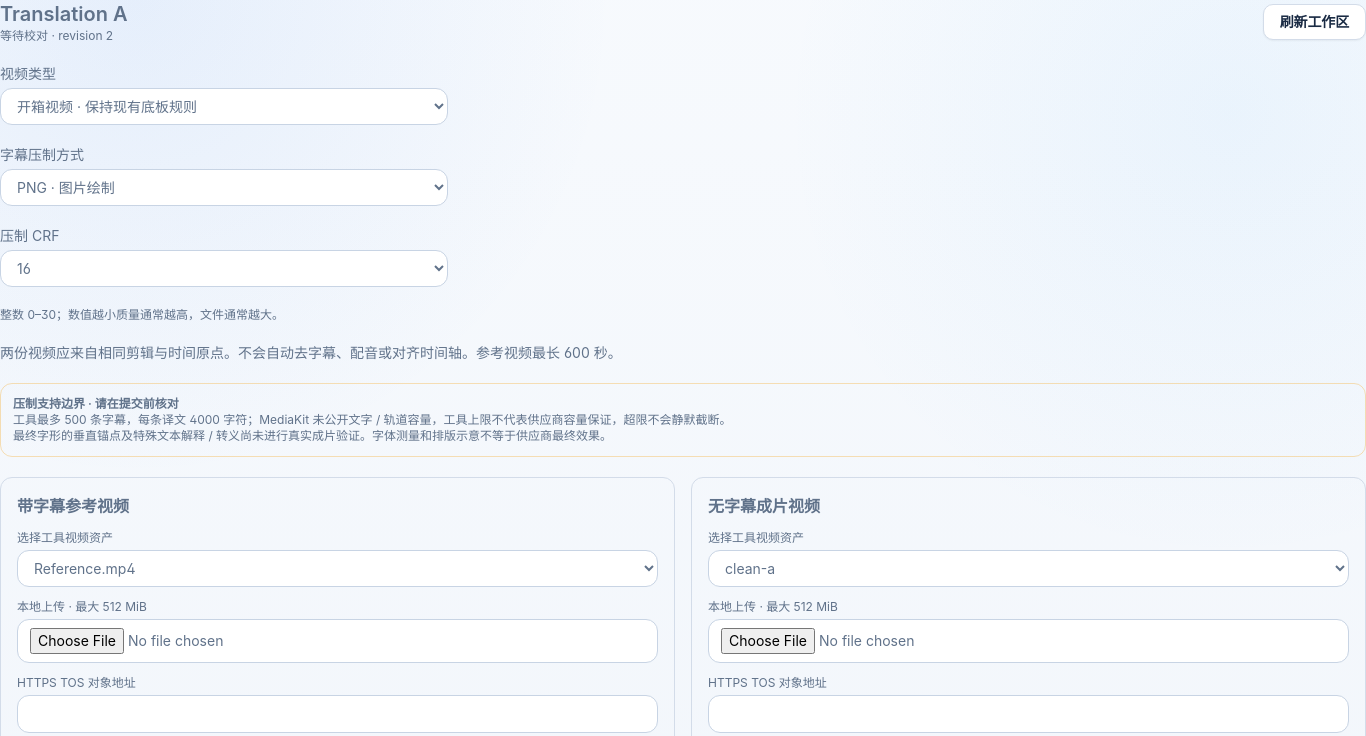
Test: subtitle render mode selection › serializes in-flight updates and keeps the saved selection until PATCH succeeds
Select "Text · 原生文字" in the dropdown labelled "字幕压制方式" at (224, 188), box [0,169,448,206]
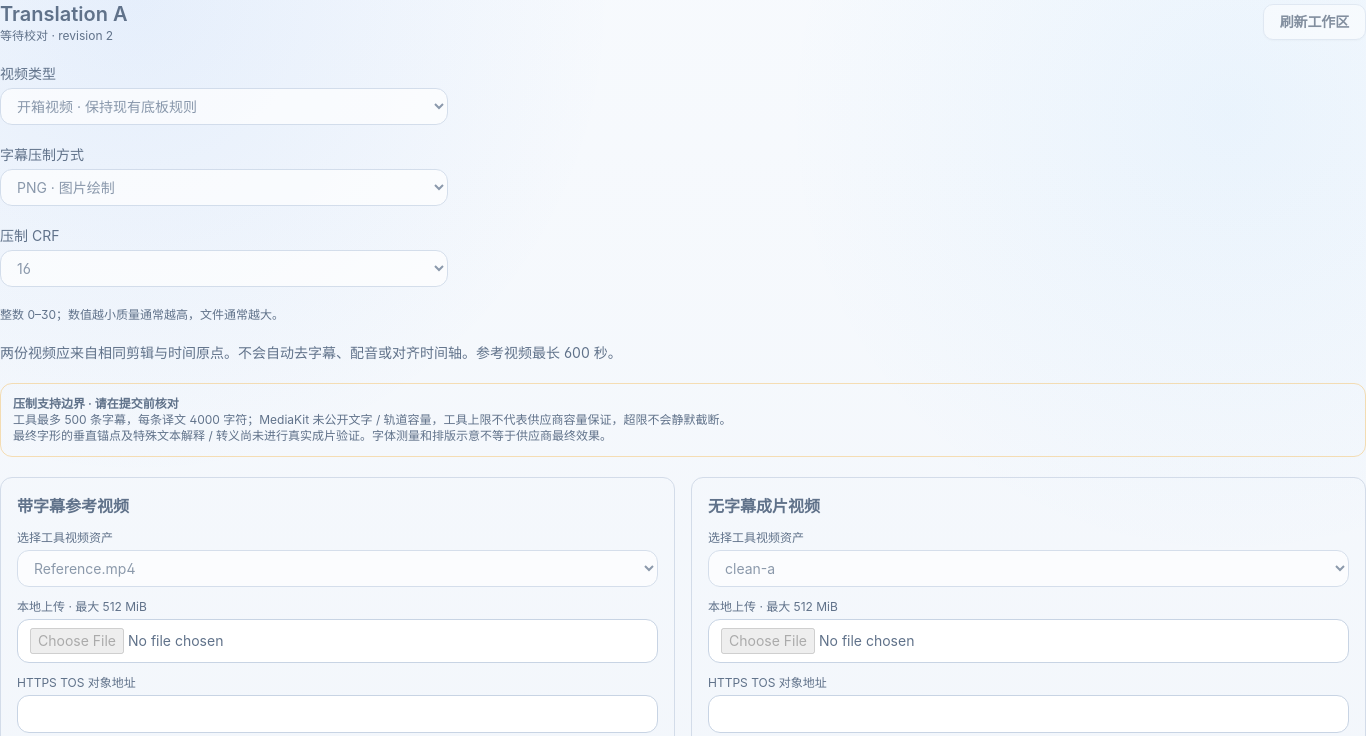
Expected: the dropdown labelled "字幕压制方式" is disabled
Select "Text · 原生文字" in the dropdown labelled "字幕压制方式" at (224, 188), box [0,169,448,206]
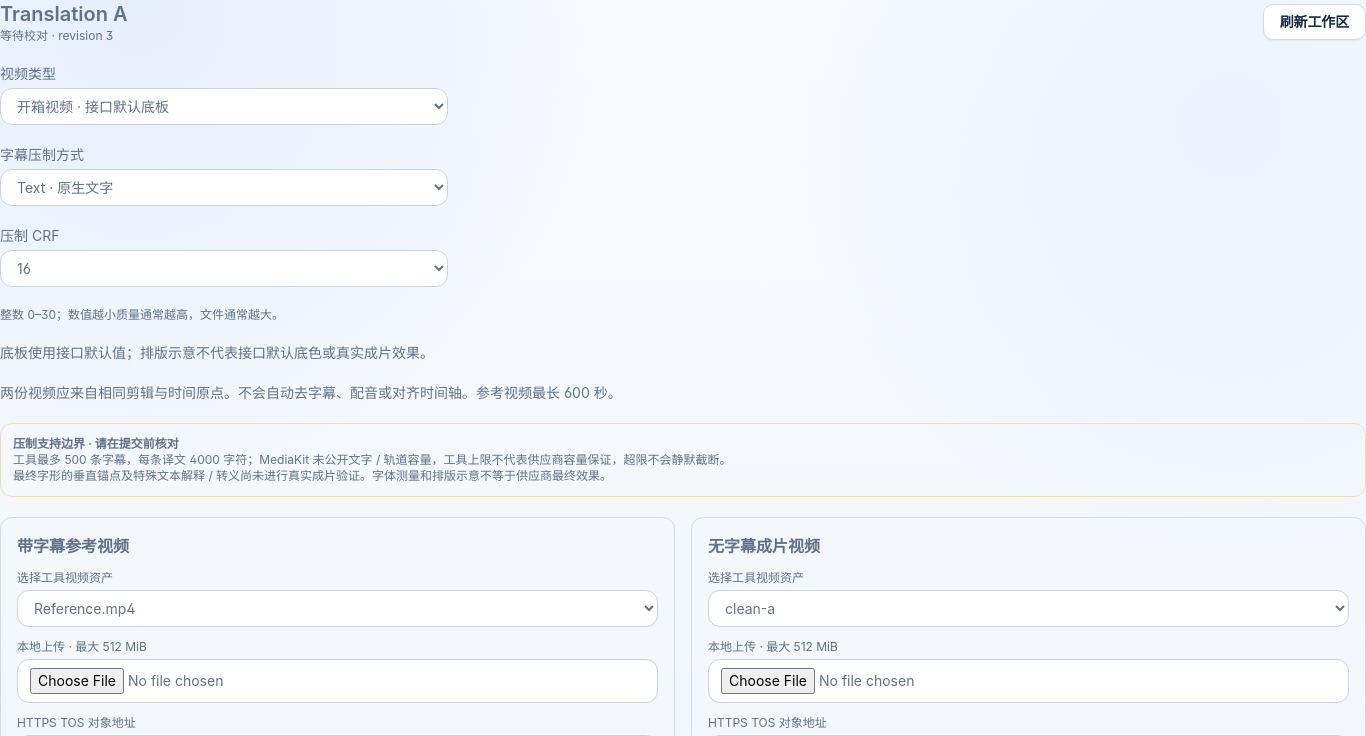
Expected: the dropdown labelled "字幕压制方式" is enabled, [0,169,448,206]
